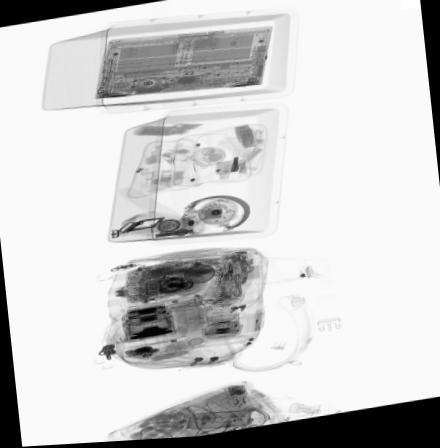Lighter: (254, 313, 264, 333)
